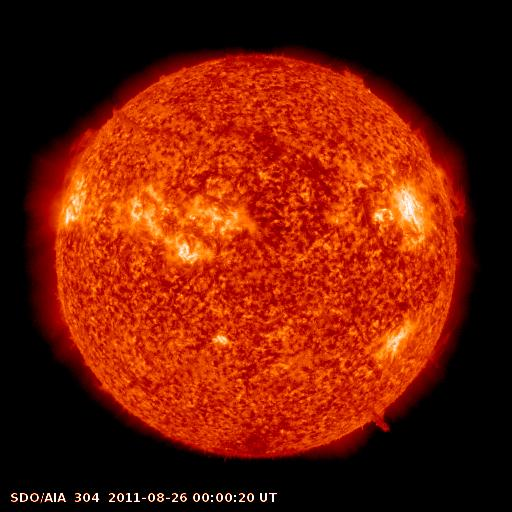prominence: (434, 155, 481, 224), (57, 123, 103, 189), (416, 327, 460, 376), (358, 400, 401, 440), (335, 60, 371, 92)
